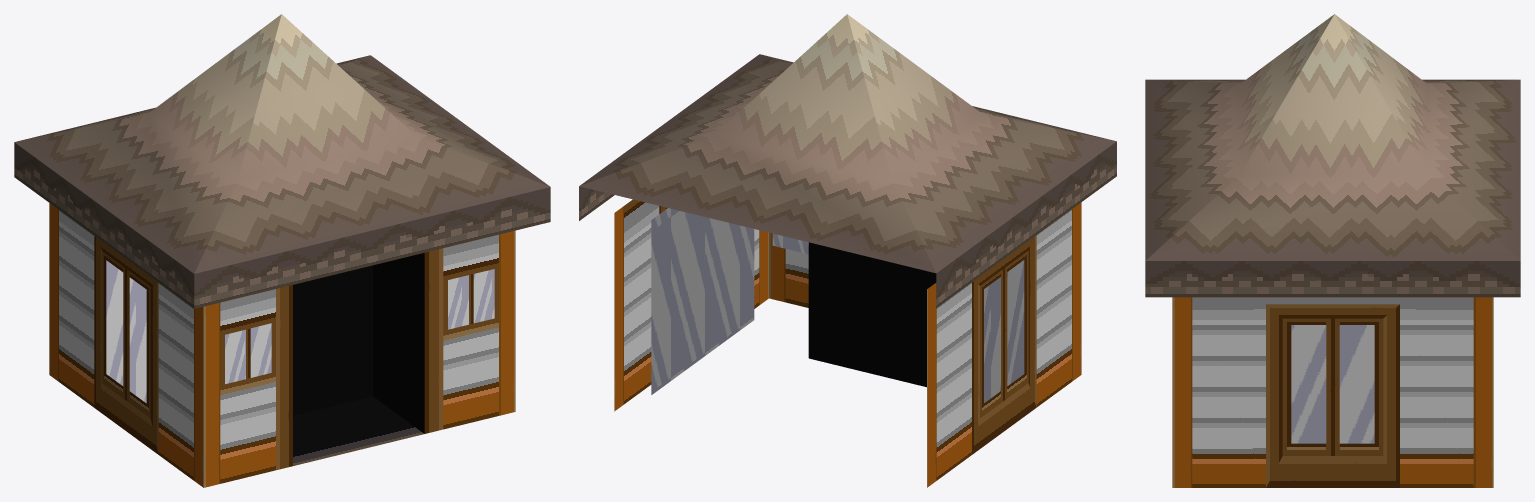
3 views of the same model, side by side, from view 1: azimuth 30°, elevation 25°; view 2: azimuth 150°, elevation 25°; view 3: azimuth 270°, elevation 25° (orthographic). The views are drawn at different scales.
Parts seen in each view (by area): view 1: polygon1, polygon0, polygon2; view 2: polygon1, polygon0, polygon2; view 3: polygon1, polygon0, polygon2.
Boxes of the visible parts, box(x1,y1,x2,y2) form: polygon1: box(14, 14, 550, 308); polygon0: box(49, 203, 515, 487); polygon2: box(106, 260, 494, 403); polygon1: box(579, 14, 1116, 308); polygon0: box(614, 199, 1081, 487); polygon2: box(651, 208, 1024, 402); polygon1: box(1145, 14, 1520, 297); polygon0: box(1172, 297, 1493, 487); polygon2: box(1291, 325, 1374, 443).
Size of the model in its own units: 4 by 4.06 by 3.5.
